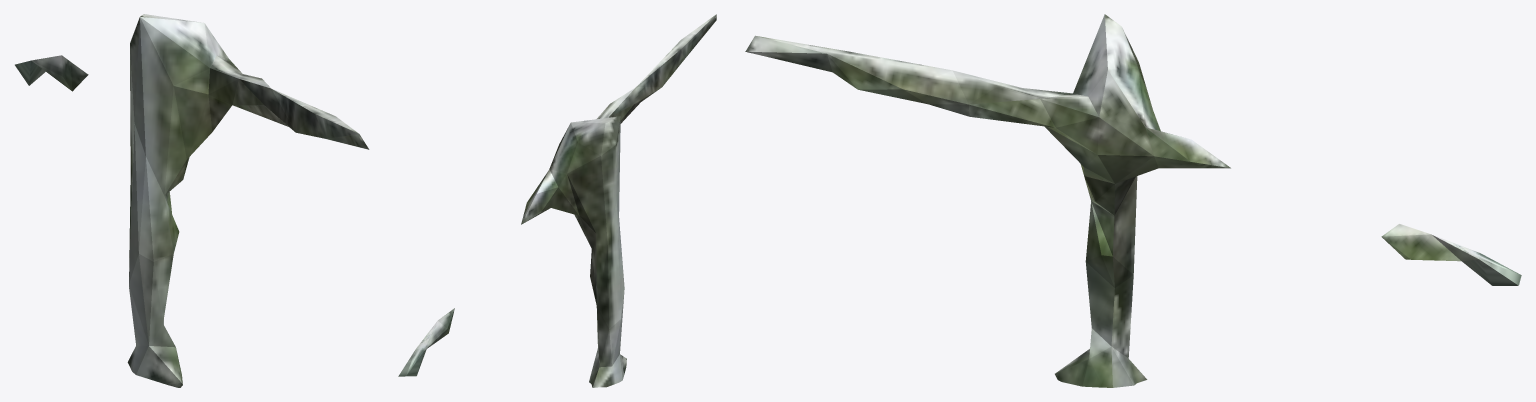
3 views of the same model, side by side, from view 1: azimuth 30°, elevation 25°; view 2: azimuth 150°, elevation 25°; view 3: azimuth 270°, elevation 25° (orthographic). The views are drawn at different scales.
Bounding box in the file's own units: 0.7037 × 2.38 × 4.68.
Materials: 1 (1 with a texture image).
